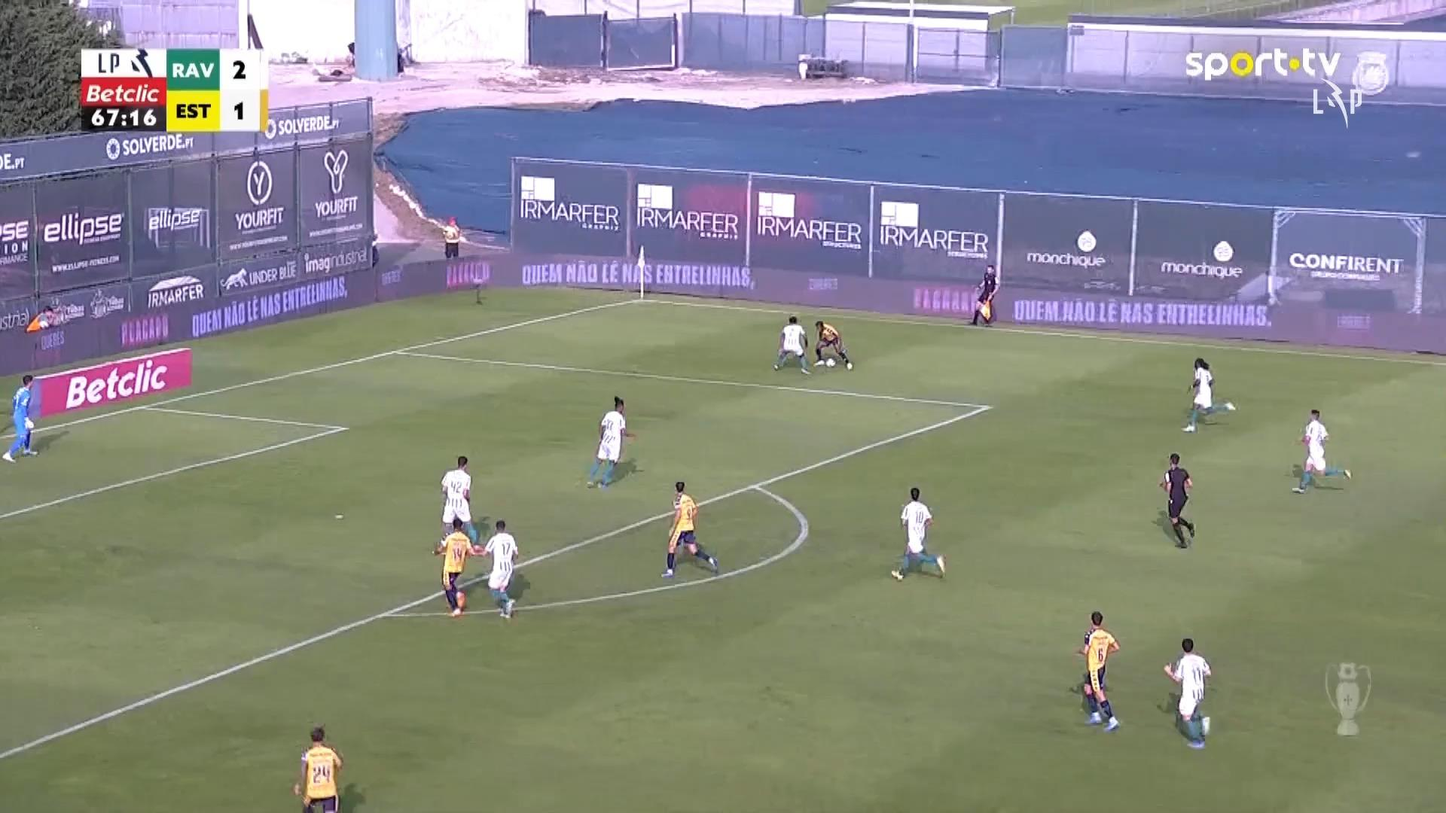ball: (826, 358, 836, 368)
goalkeeper: (1, 373, 38, 462)
player: (660, 480, 718, 578), (1162, 636, 1212, 748), (1075, 610, 1120, 731), (890, 486, 946, 580), (432, 454, 484, 554), (1291, 408, 1351, 492), (432, 516, 481, 617), (584, 395, 636, 489), (293, 723, 343, 811), (1181, 357, 1235, 432), (482, 519, 519, 618), (772, 314, 811, 374), (812, 319, 853, 370)
referee: (1158, 452, 1195, 548), (969, 264, 999, 326)
